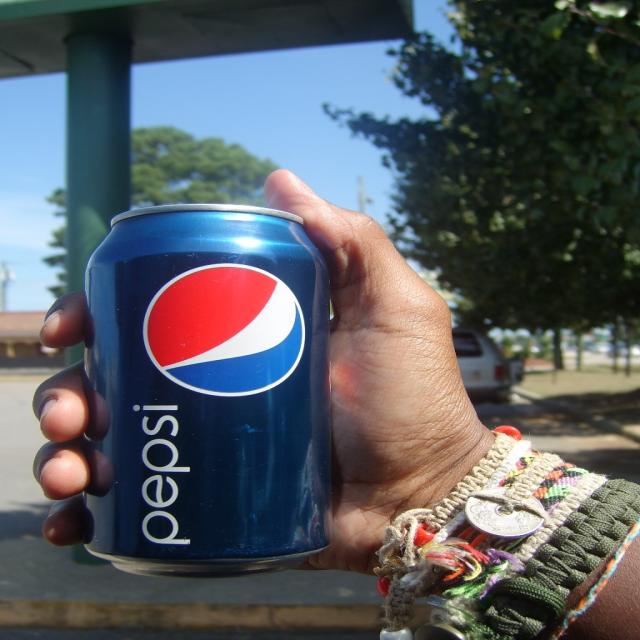pepsi: (143, 261, 307, 400)
